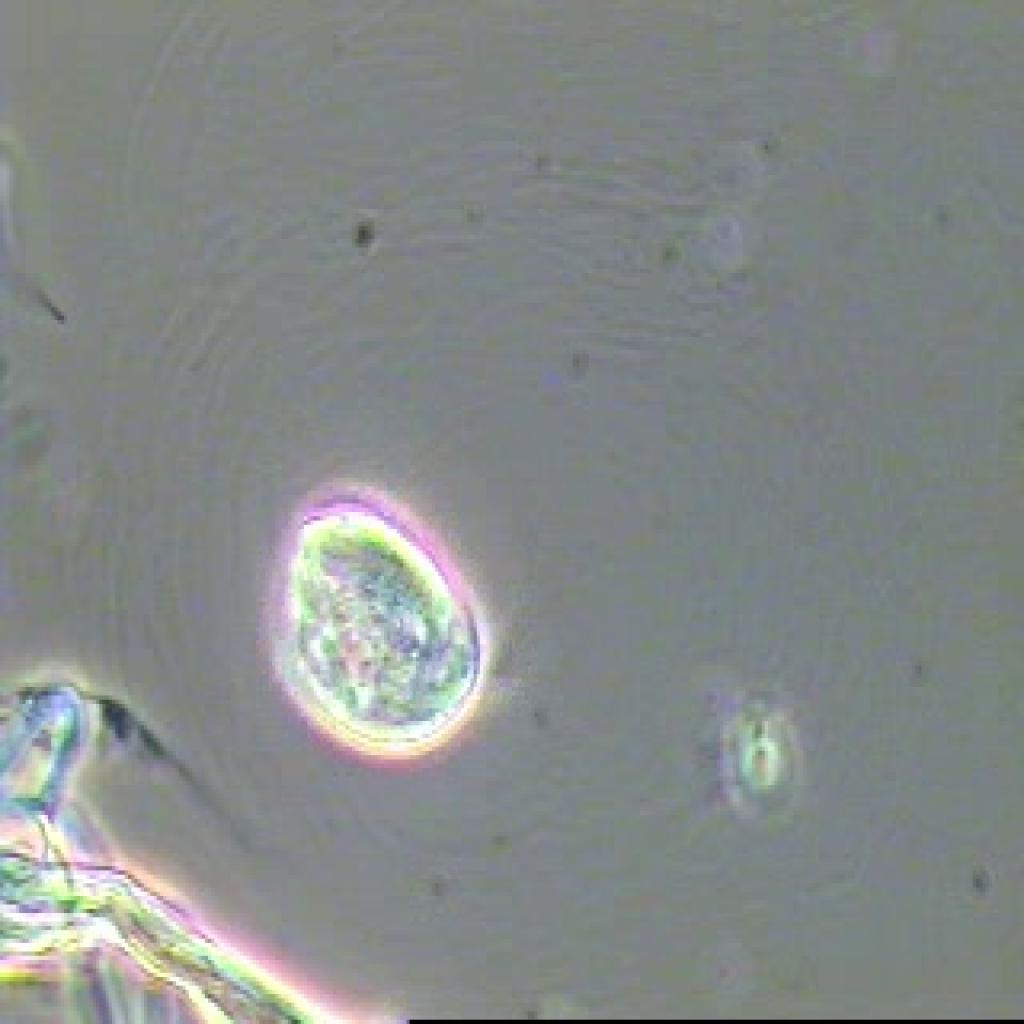Aspidisca: (248, 465, 555, 772)
